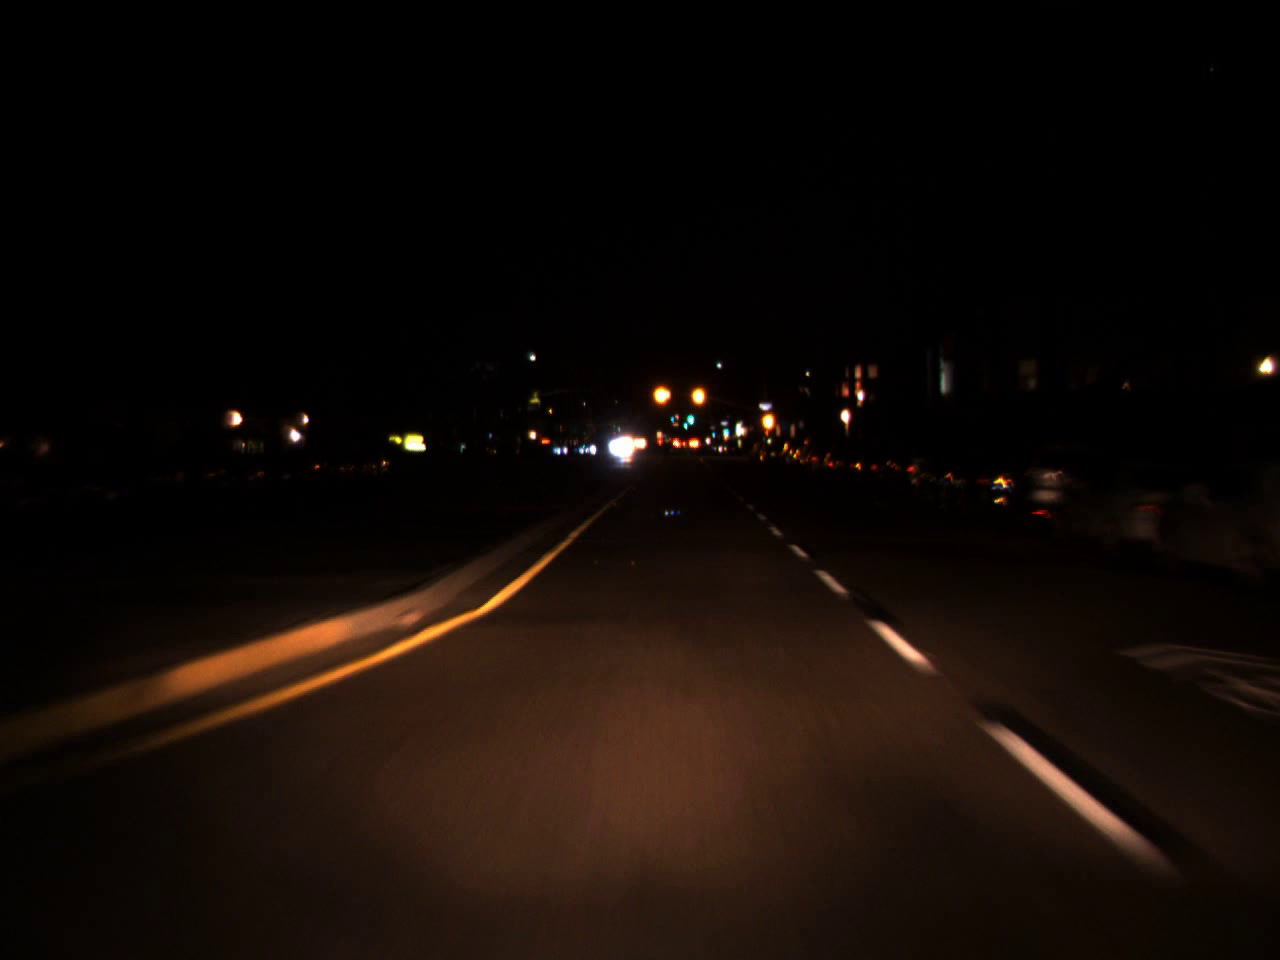go: (685, 404, 695, 425), (709, 423, 716, 441)
warning: (651, 374, 672, 414), (689, 375, 708, 415), (760, 403, 778, 438)
